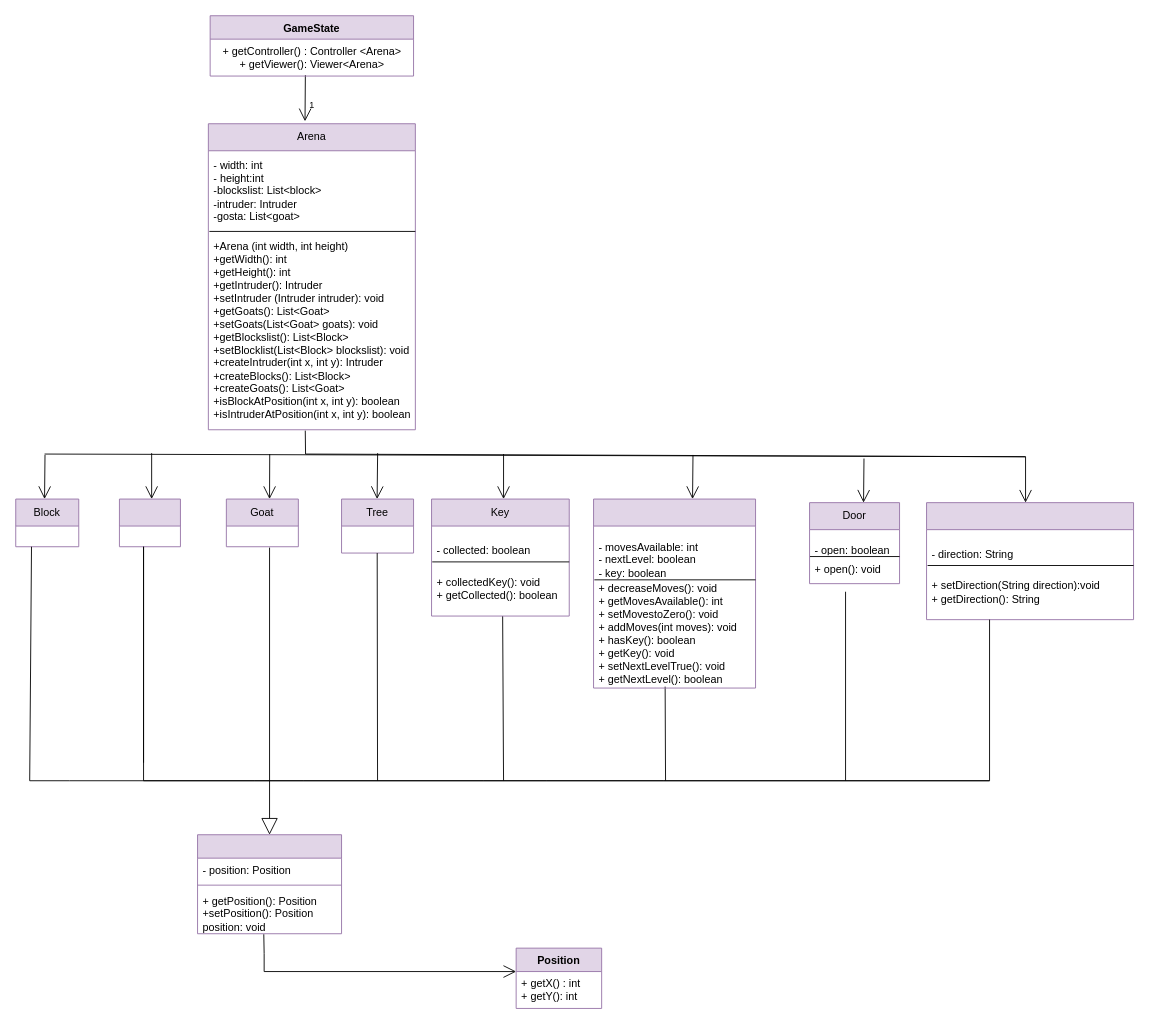
This 1150x1027 diagram has some shape labels left out. Each missing label, with the box of its shape:
Bullet: (926, 502, 1134, 620)
Element: (197, 834, 342, 934)
Intruder: (593, 498, 756, 688)
Point: (119, 498, 180, 547)
